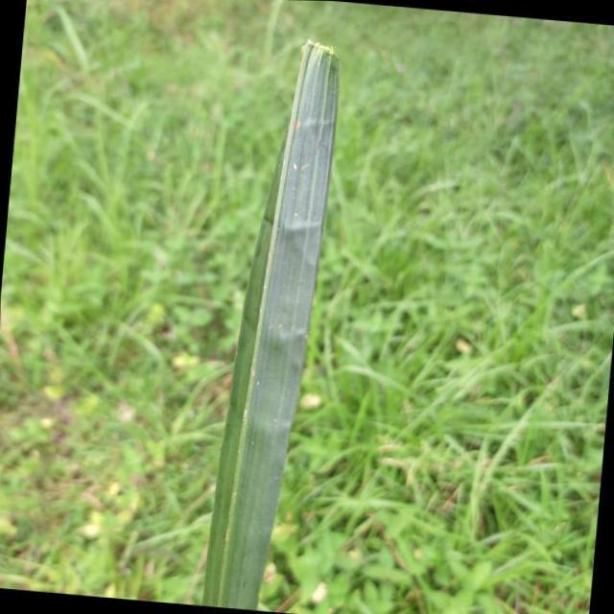Boron: (200, 33, 344, 614)
